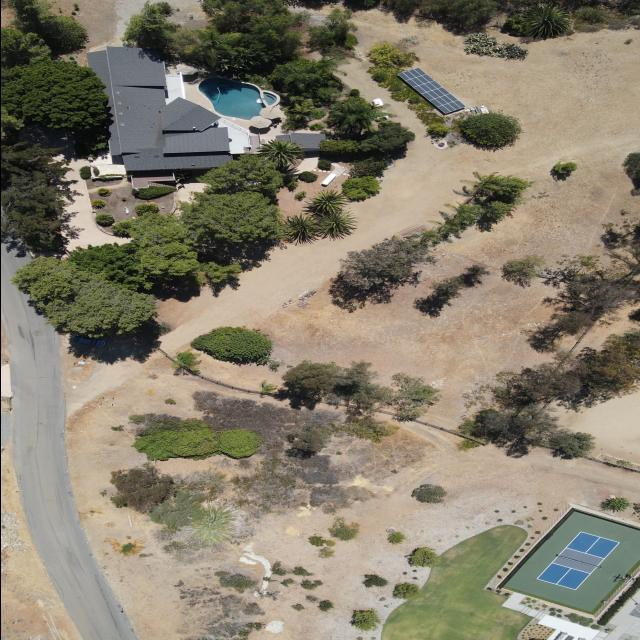solar-panels: (396, 59, 466, 122)
